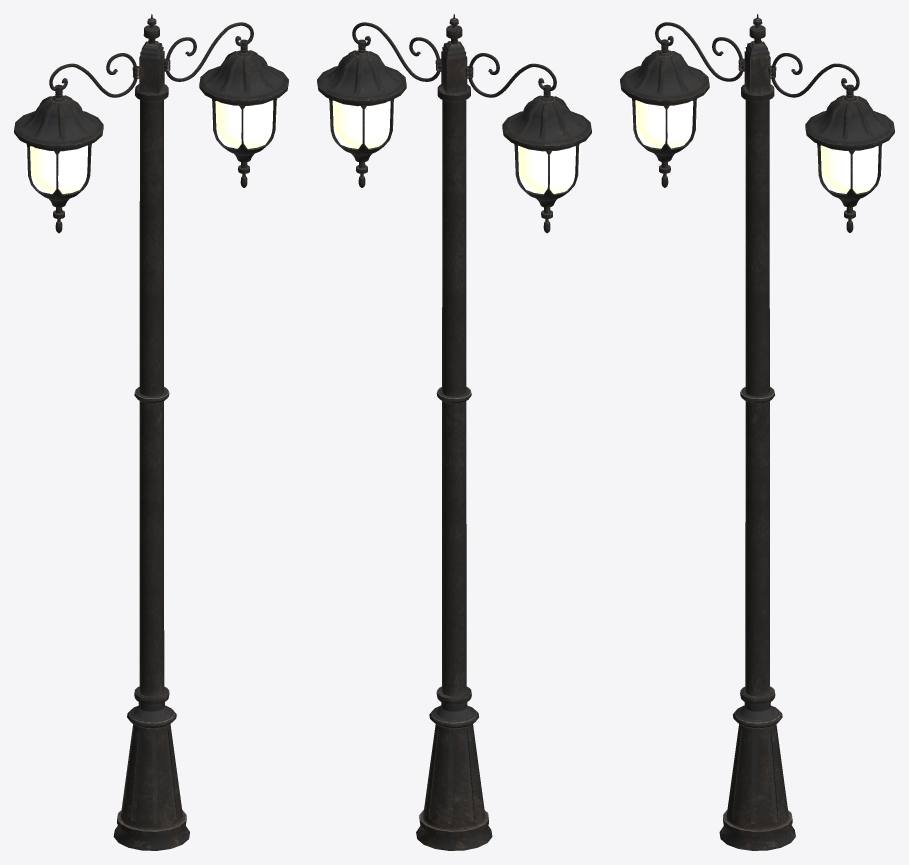
The model's file is lamp.gltf.
3 renders of one model, left to right at view 1: azimuth 30°, elevation 25°; view 2: azimuth 150°, elevation 25°; view 3: azimuth 330°, elevation 25°, orthographic.
Parts seen in each view (by area): view 1: Post_Metal_M_0, Inners_Material #48_0; view 2: Post_Metal_M_0, Inners_Material #48_0; view 3: Post_Metal_M_0, Inners_Material #48_0.
Part boxes in pixels (x1,y1,x2,y2): Post_Metal_M_0: (14,14,288,850); Inners_Material #48_0: (25,98,277,193); Post_Metal_M_0: (317,14,591,850); Inners_Material #48_0: (328,98,580,194); Post_Metal_M_0: (620,14,894,850); Inners_Material #48_0: (631,98,883,193).
Size of the model in its own units: 31.34 by 93.24 by 9.28.
2 materials, 1 textured.
